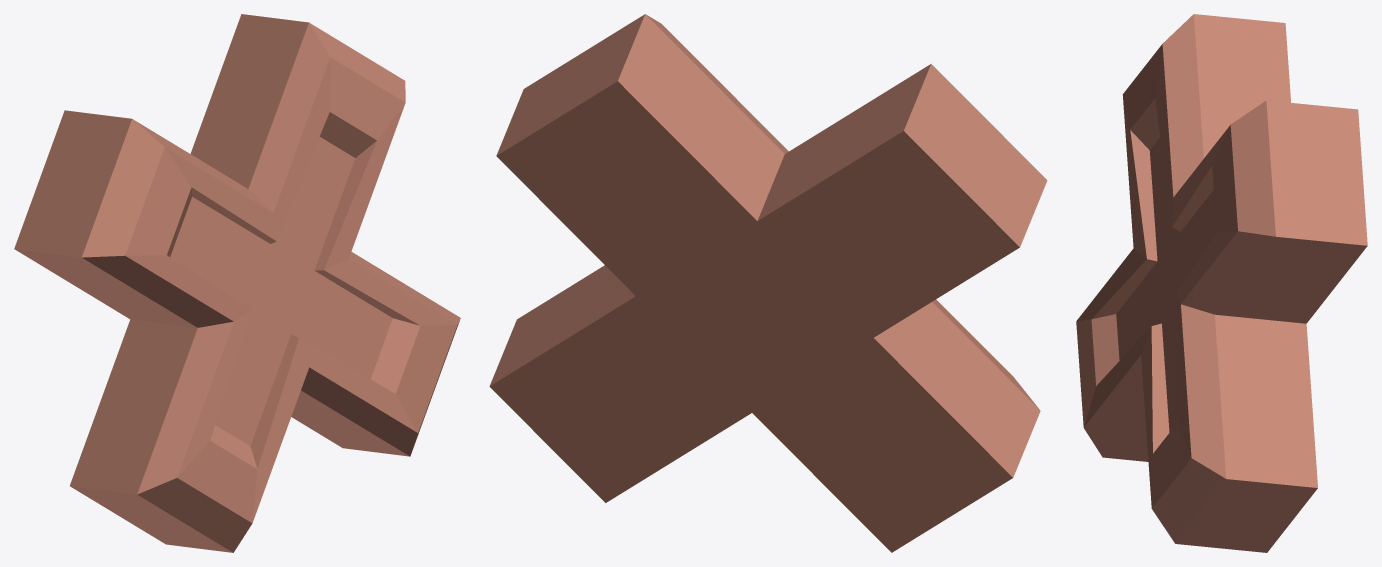
The model's file is FinishX.fbx.
3 renders of one model, left to right at view 1: azimuth 30°, elevation 25°; view 2: azimuth 150°, elevation 25°; view 3: azimuth 270°, elevation 25°, orthographic. The views are drawn at different scales.
Visible parts, largest first — view 1: FinishX; view 2: FinishX; view 3: FinishX.
Part boxes in pixels (<box>): FinishX: <box>14,14,460,552</box>; FinishX: <box>489,14,1047,552</box>; FinishX: <box>1076,14,1367,552</box>.
Size of the model in its own units: 270 by 264 by 154.
